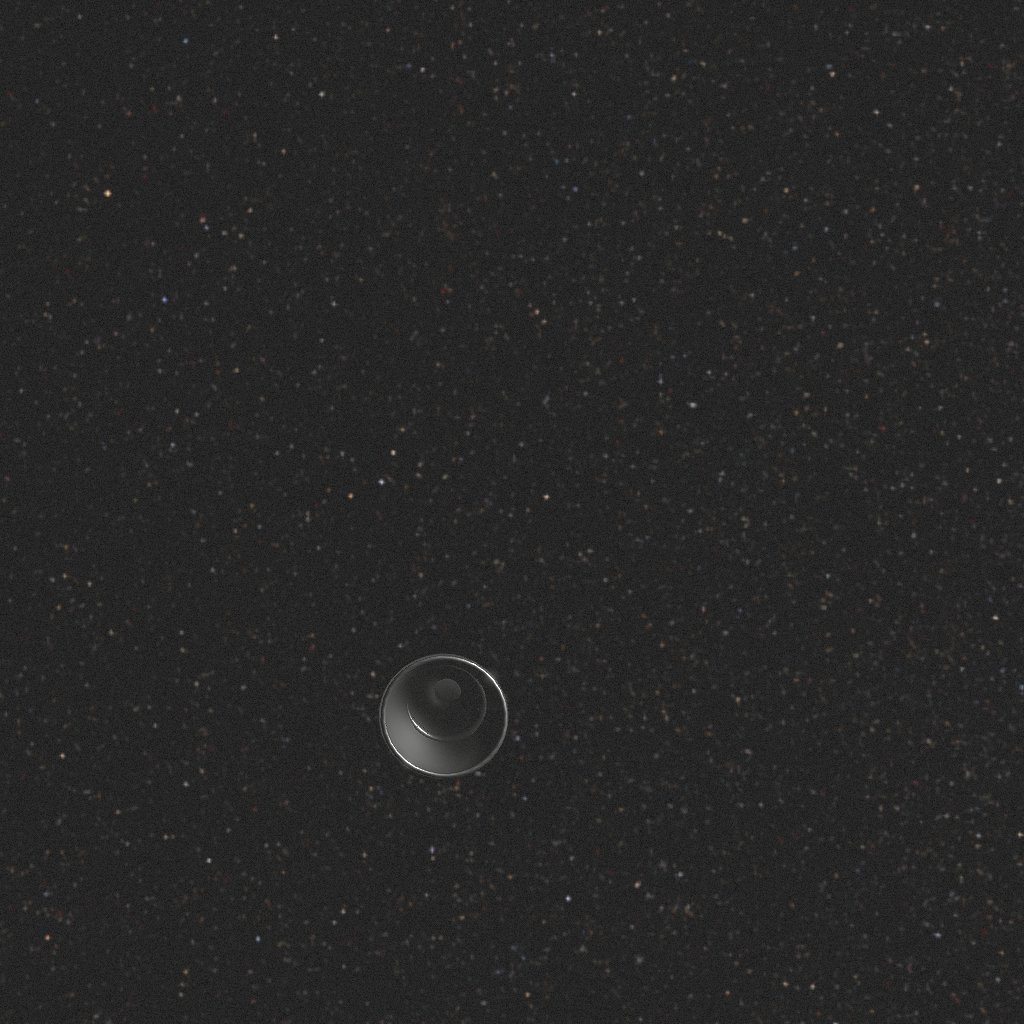debris: (371, 634, 515, 775)
